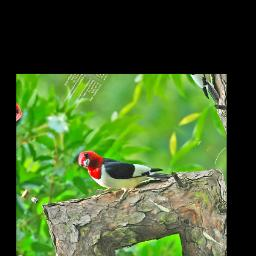Woodpecker: (66, 125, 174, 222)
